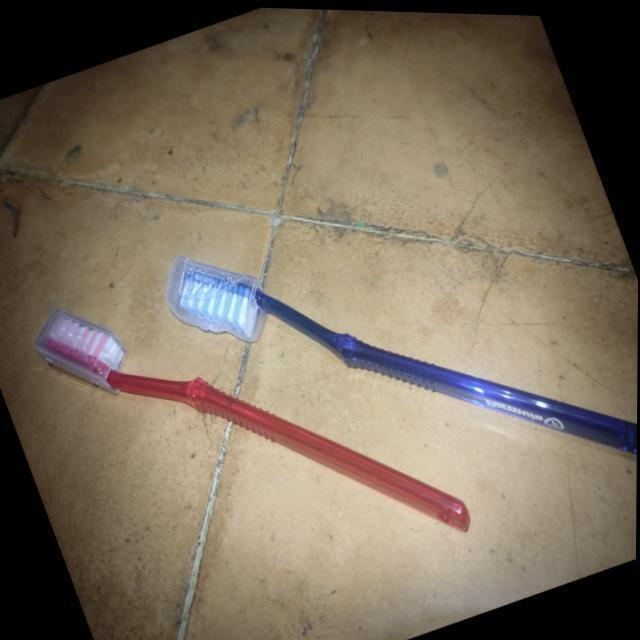toothbrush: (21, 306, 491, 546), (154, 245, 638, 463)
